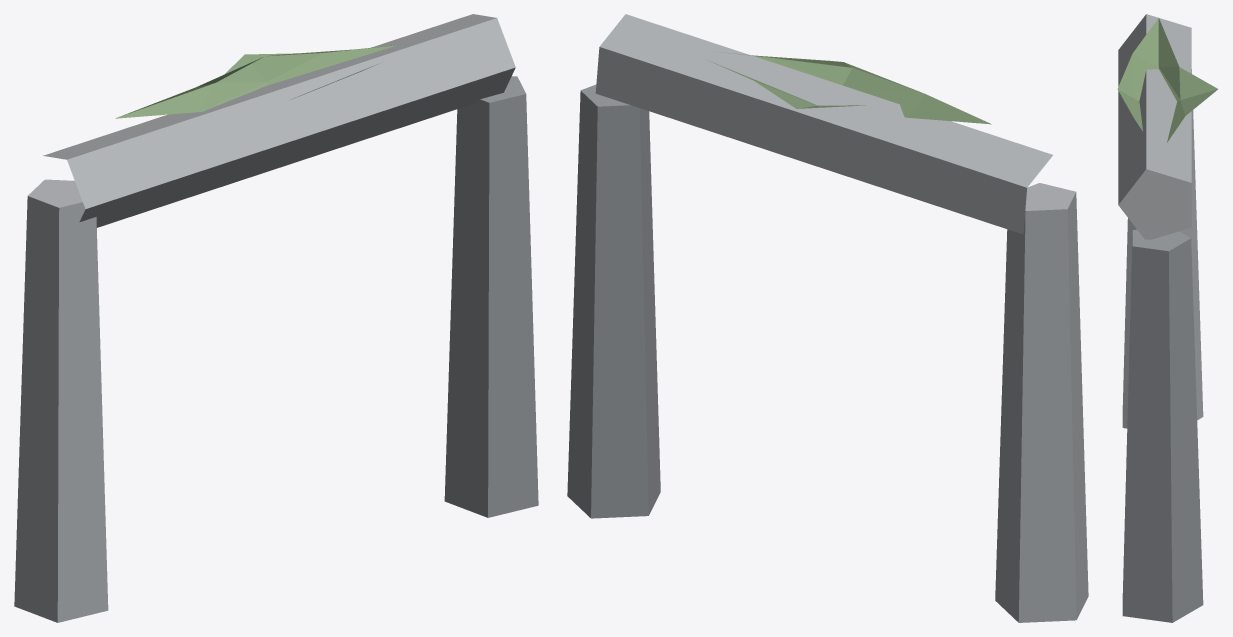
The model's file is arch_rock_v17.glb.
The picture shows the model from 3 angles, left to right: view 1: azimuth 30°, elevation 25°; view 2: azimuth 150°, elevation 25°; view 3: azimuth 270°, elevation 25°; orthographic projection. The views are drawn at different scales.
Visible parts, largest first — view 1: lod0; view 2: lod0; view 3: lod0.
Part boxes in pixels (x1=…): lod0: x1=14, y1=14, x2=538, y2=622; lod0: x1=567, y1=14, x2=1088, y2=622; lod0: x1=1117, y1=14, x2=1218, y2=622.
Size of what is drawn, in the model's own units: 2.62 by 2.42 by 0.4994.
